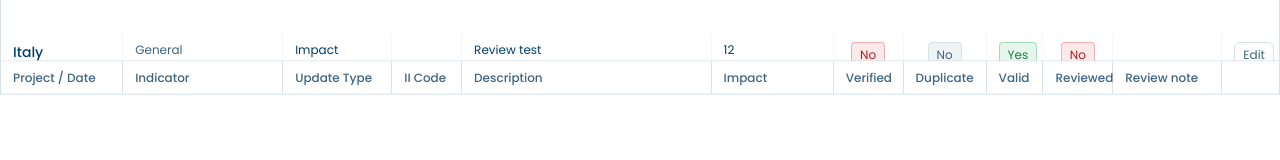
Test case: an older save cannot hide a row whose newer Reviewed choice keeps it in the filter
Click the 3rd button "No".
click(1078, 55)  # box [1061,42,1095,68]
Wait 550 ms
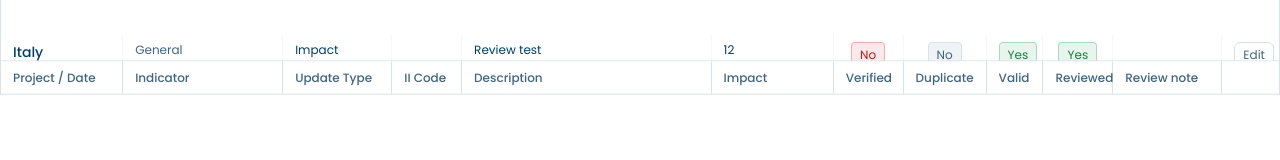
Click the 2nd button "Yes".
click(1078, 55)  # box [1058,42,1097,68]
Wait 20 ms
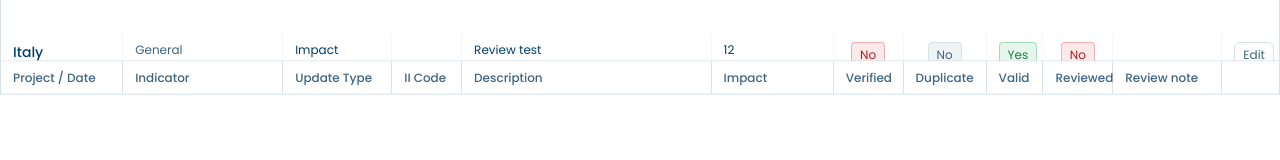
expect the row "Review test" is shown: met, box [1,34,1279,94]
expect the 3rd button "No" is shown: met, box [1061,42,1095,68]
